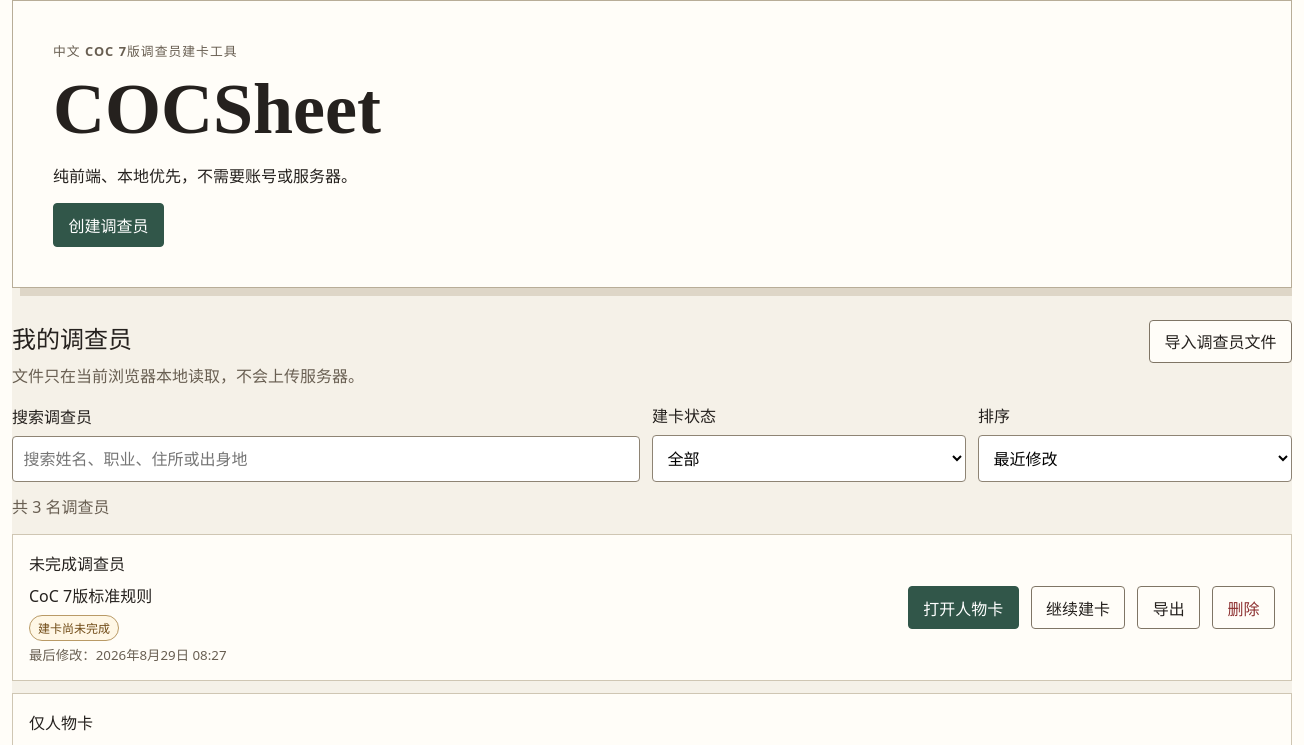
Test: HomePage investigator library browsing › filters by authoritative creation status
Select "仅有人物卡资料" in the dropdown labelled "建卡状态" at point(809, 459), box [652, 435, 966, 482]
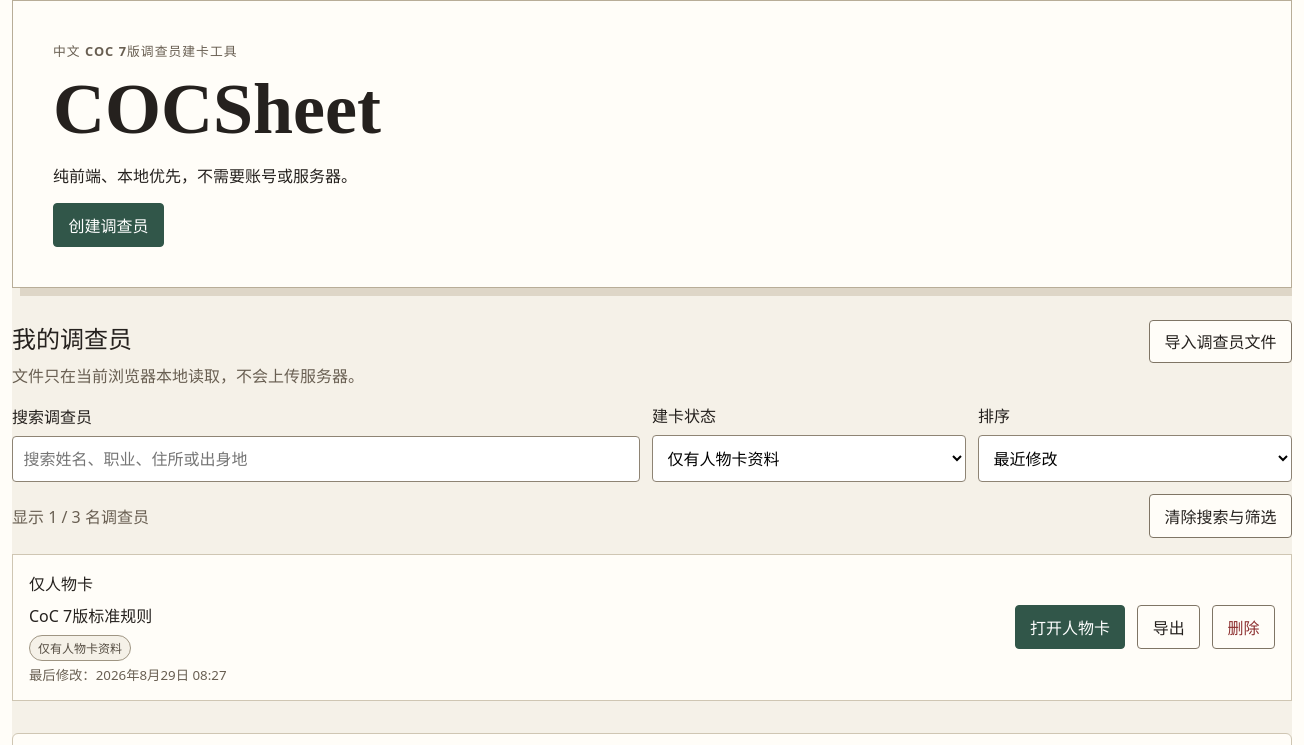
Expected: the list item with class "record-card" shows "仅有人物卡资料", [38, 640, 122, 657]
Expected: the text "显示 1 / 3 名调查员" is shown, [12, 504, 149, 528]
